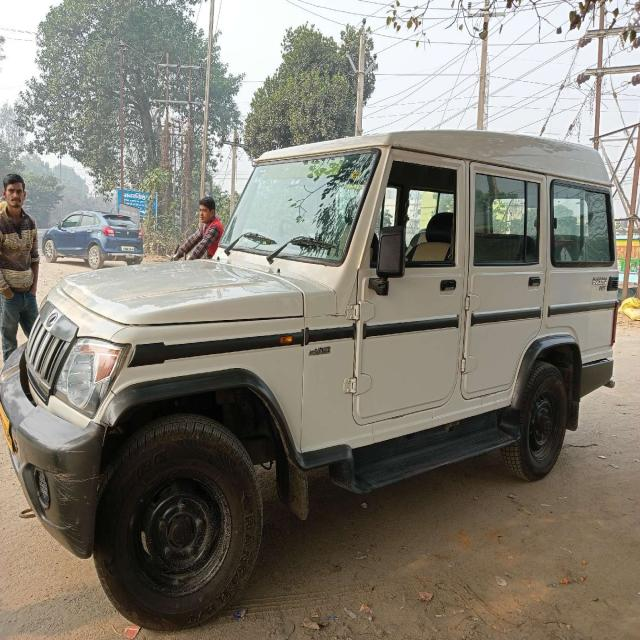light_vehicle: (16, 157, 611, 534)
